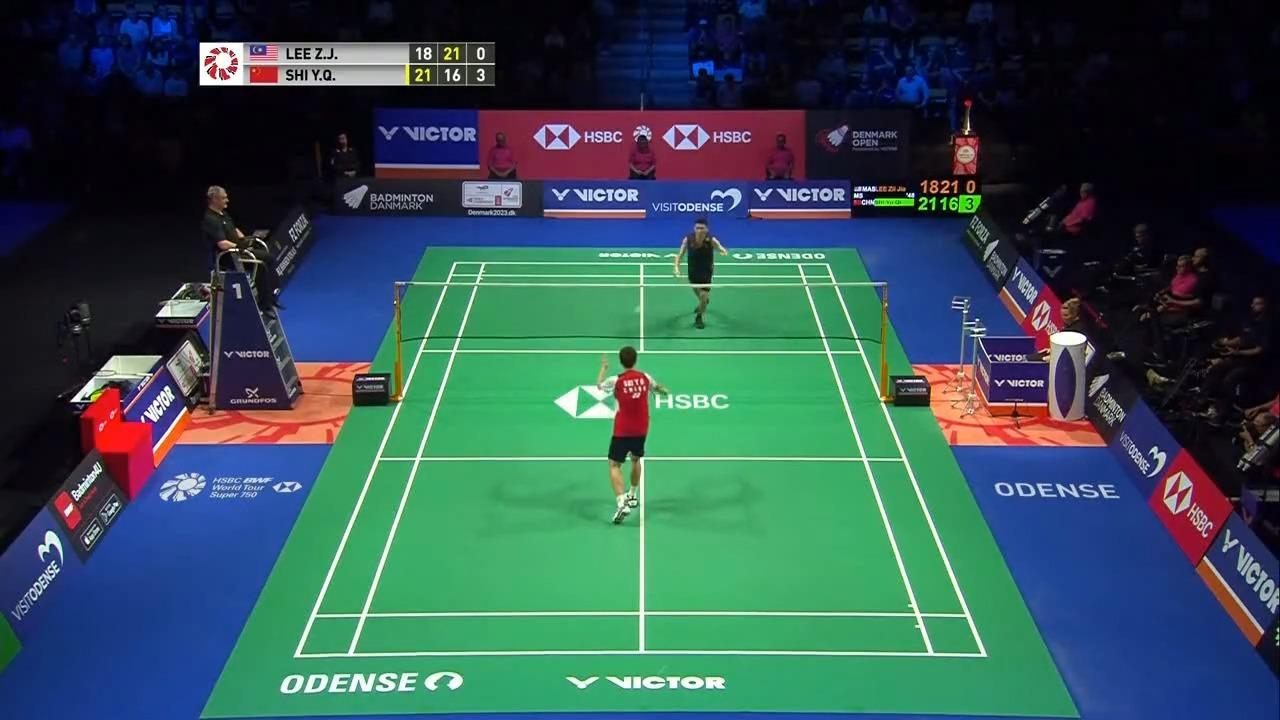shuttle: (633, 303, 643, 315)
